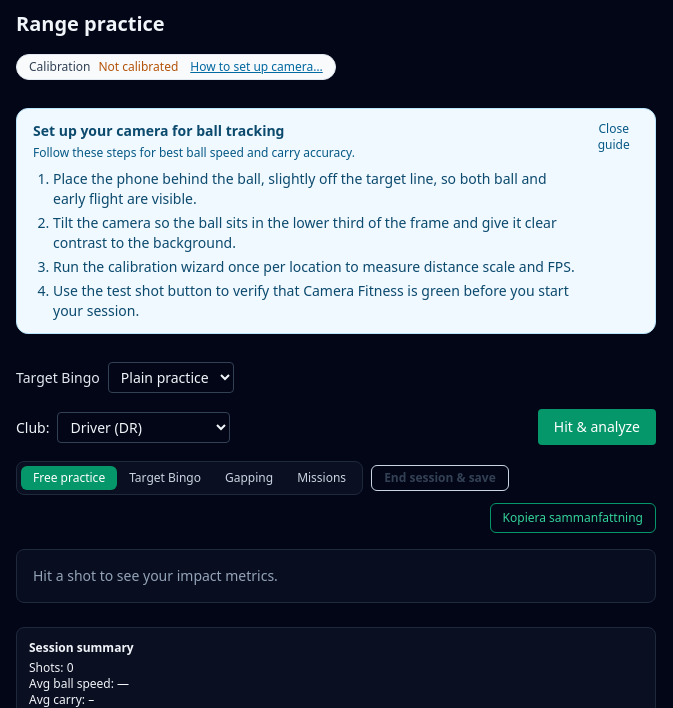
RangePracticePage camera fitness › renders camera fitness badge with reasons
Click the button "Hit & analyze" at (597, 427), box 538,409 -> 656,445
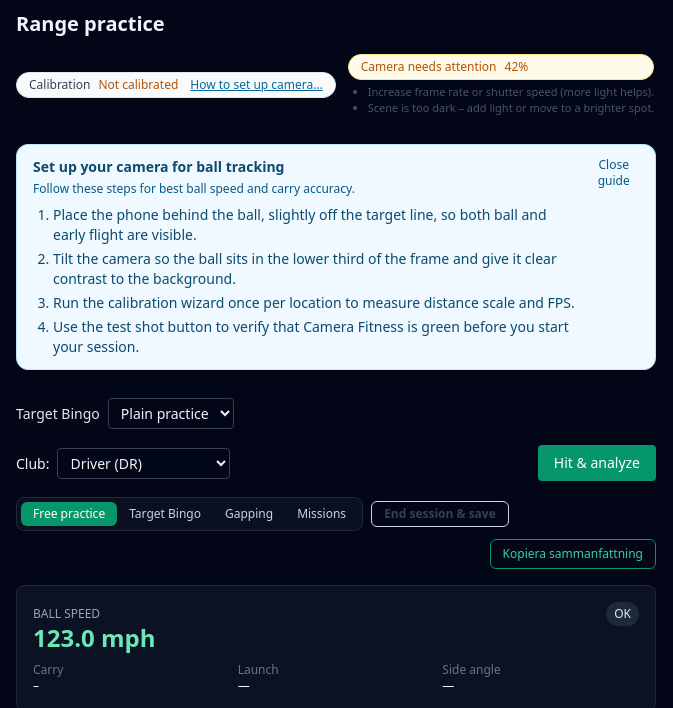
expect the text "Camera needs attention" is shown: met, box 361,59 -> 497,75
expect the list item "Increase frame rate or shutter speed (more light helps)." is shown: met, box 368,84 -> 654,100
expect the list item "Scene is too dark – add light or move to a brighter spot." is shown: met, box 368,100 -> 654,116
